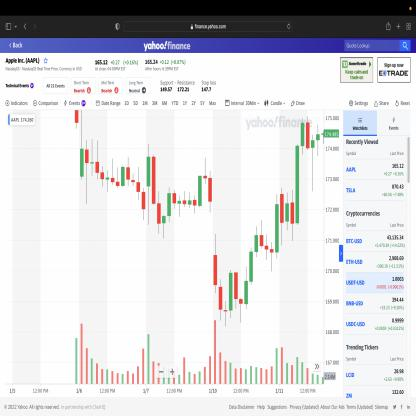Bearish: Evening Star Doji: (197, 154, 213, 216)
Bearish: Tweezer Top: (146, 141, 156, 229), (300, 115, 311, 156)
Bullish: 3 Line Strike: (259, 192, 279, 274)
Bullish: 3 White Soldiers: (244, 222, 259, 310)
Bullish: Hammer: (233, 265, 248, 325)
Bullish: Morning Star Doji: (218, 267, 234, 331)
